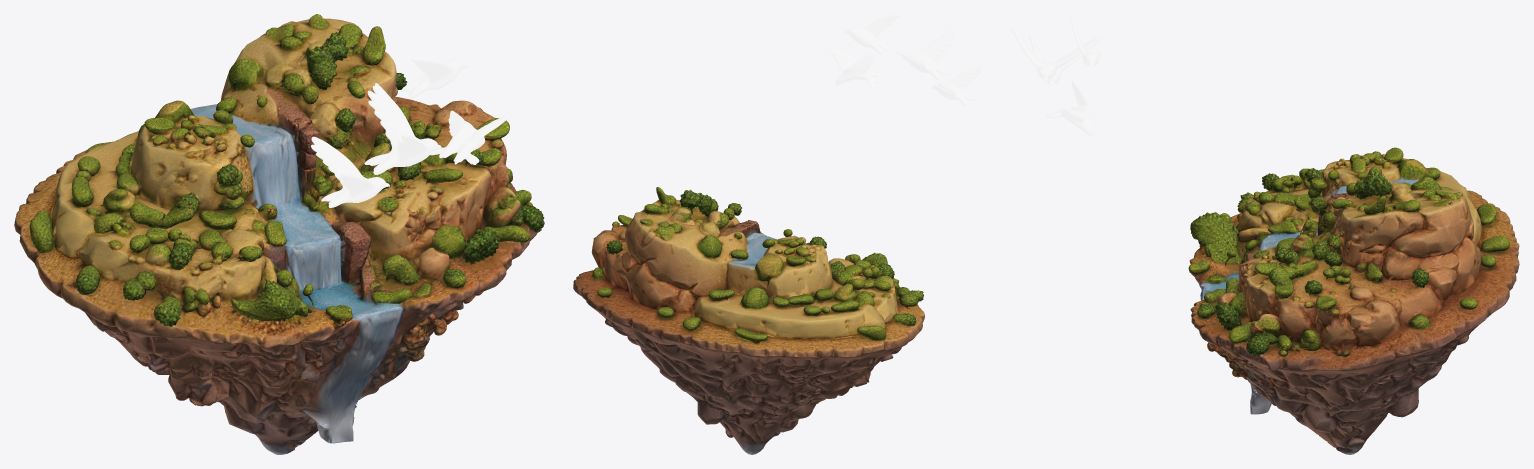
Rendered from 03-landscape-birds.glb.
The picture shows the model from 3 angles, left to right: view 1: azimuth 30°, elevation 25°; view 2: azimuth 150°, elevation 25°; view 3: azimuth 270°, elevation 25°; orthographic projection. The views are drawn at different scales.
Parts seen in each view (by area): view 1: tripo_node_1f77c117-7582-4d0f-91cd-1afc10127263, tripo_node_5024076d-324e-465d-aef5-efe0de46f5ec; view 2: tripo_node_1f77c117-7582-4d0f-91cd-1afc10127263, tripo_node_5024076d-324e-465d-aef5-efe0de46f5ec; view 3: tripo_node_1f77c117-7582-4d0f-91cd-1afc10127263, tripo_node_5024076d-324e-465d-aef5-efe0de46f5ec.
Boxes of the visible parts, x1,y1,x2,y2 form: tripo_node_1f77c117-7582-4d0f-91cd-1afc10127263: [14, 14, 544, 454]; tripo_node_5024076d-324e-465d-aef5-efe0de46f5ec: [311, 57, 515, 207]; tripo_node_1f77c117-7582-4d0f-91cd-1afc10127263: [573, 187, 924, 454]; tripo_node_5024076d-324e-465d-aef5-efe0de46f5ec: [830, 14, 982, 105]; tripo_node_1f77c117-7582-4d0f-91cd-1afc10127263: [1188, 147, 1519, 454]; tripo_node_5024076d-324e-465d-aef5-efe0de46f5ec: [1011, 14, 1104, 136].
Bounding box in the file's own units: 0.522 × 0.5822 × 0.6332.
Materials: 2 (1 with a texture image).
